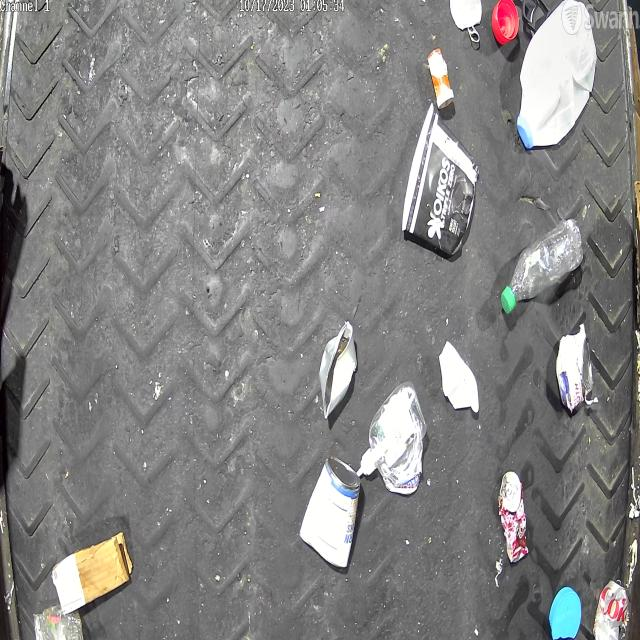can: (298, 456, 362, 570), (319, 320, 359, 420), (498, 471, 530, 564), (556, 332, 592, 411), (594, 577, 632, 640)
milk_jug: (517, 0, 597, 148)
plastic_bottle: (500, 218, 582, 315)
